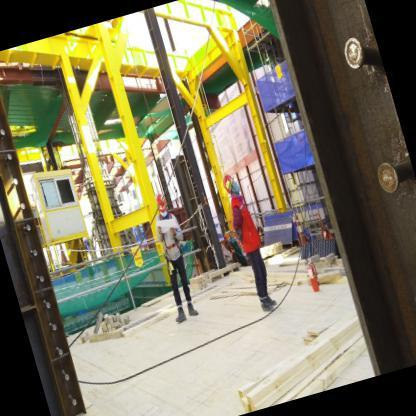safety-shoe: (170, 306, 189, 328), (260, 299, 277, 319), (187, 300, 201, 320)
